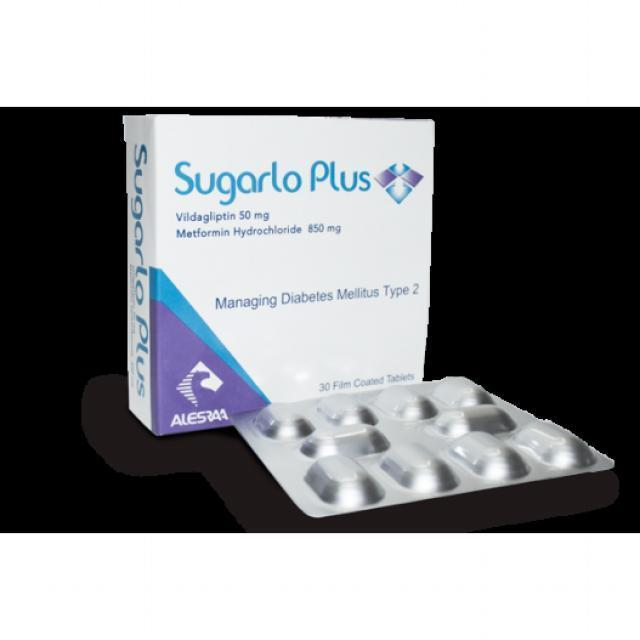drug-name: (170, 158, 373, 206)
